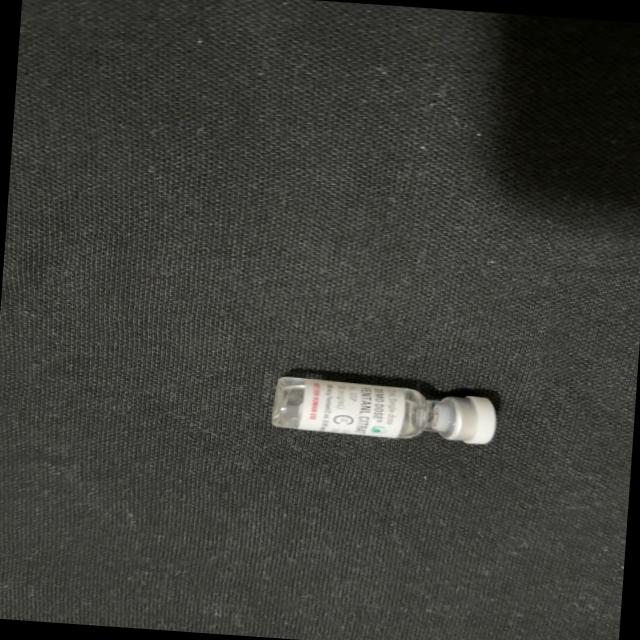fentanl_citrat: (274, 375, 496, 444)
